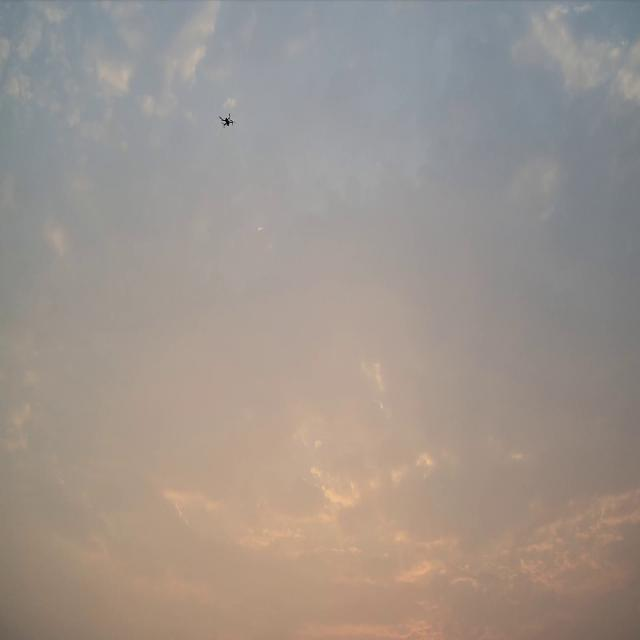UAV: (219, 113, 235, 127)
